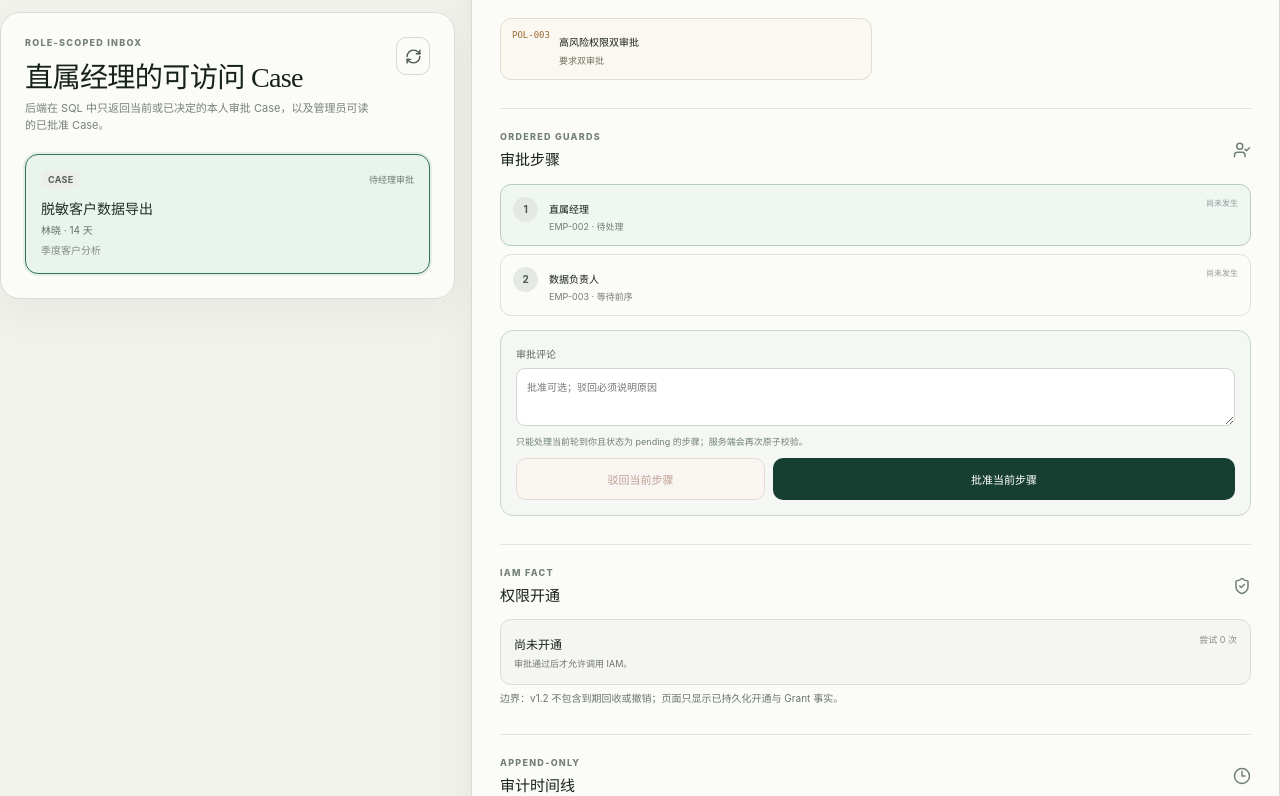
Test: OperationsConsole principal-scoped Case loading › submits the visible pending step then reloads the same Case and inbox from the server
(page scrolled)
Type "已核对" into the text box labelled "审批评论".
click(876, 397); type("已核对")  # box [516,368,1235,426]
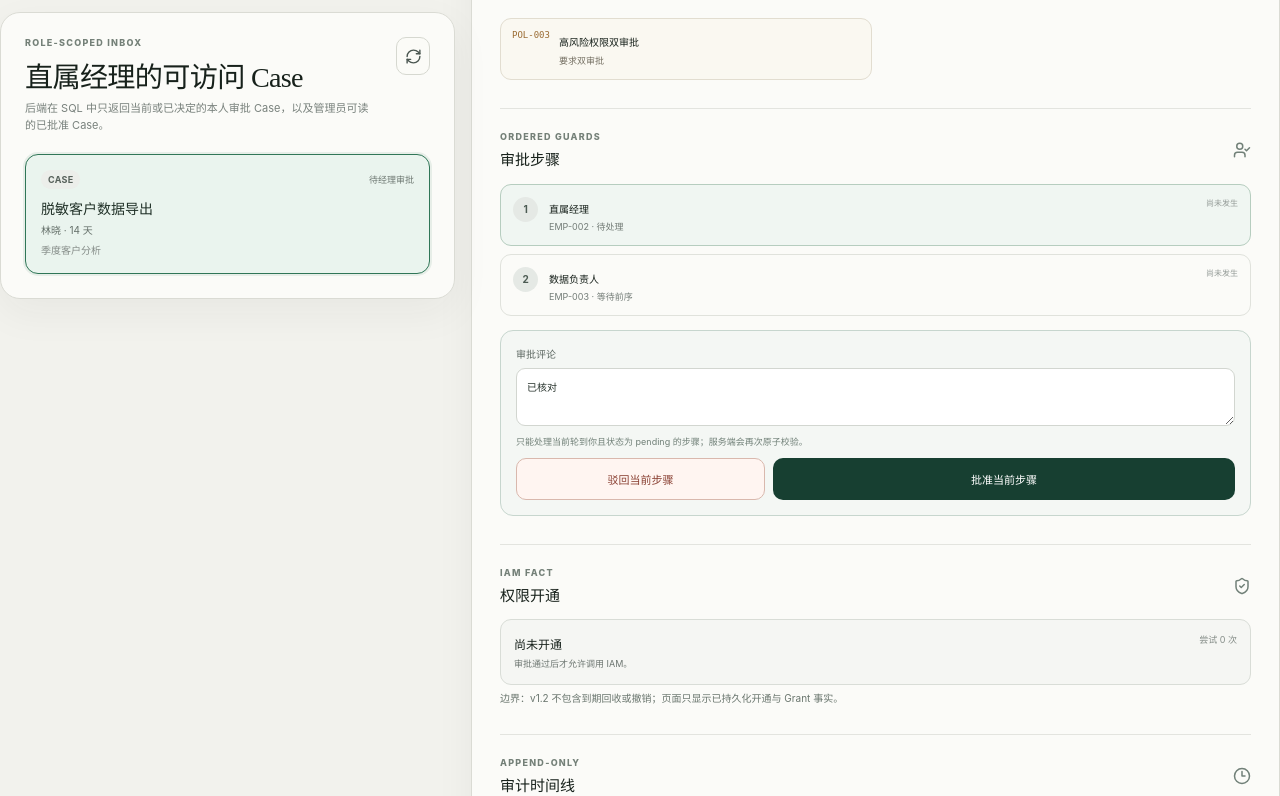
Click the button "批准当前步骤".
click(1004, 479)  # box [773,458,1235,500]
(page scrolled)
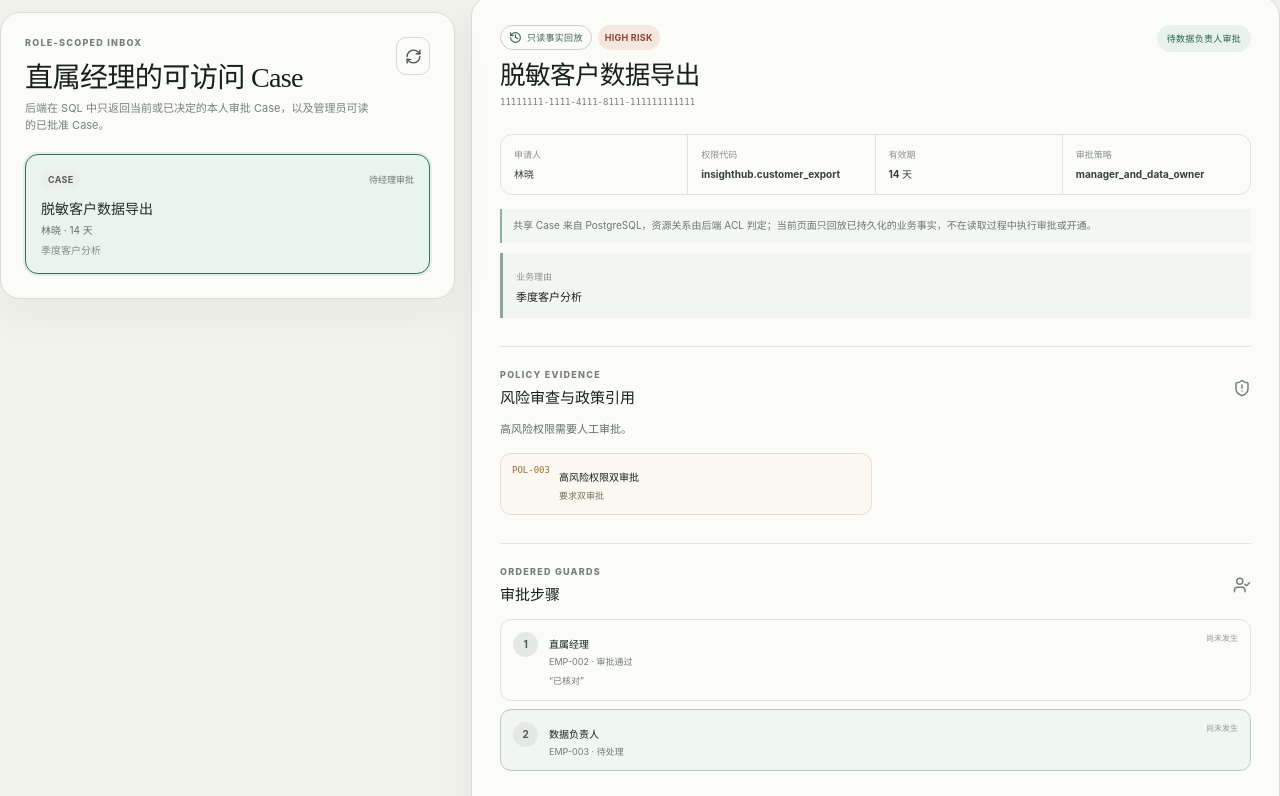
Expected: the text "待数据负责人审批" is shown, [1157,25,1251,52]
